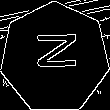N_W: (30, 37, 80, 78)
